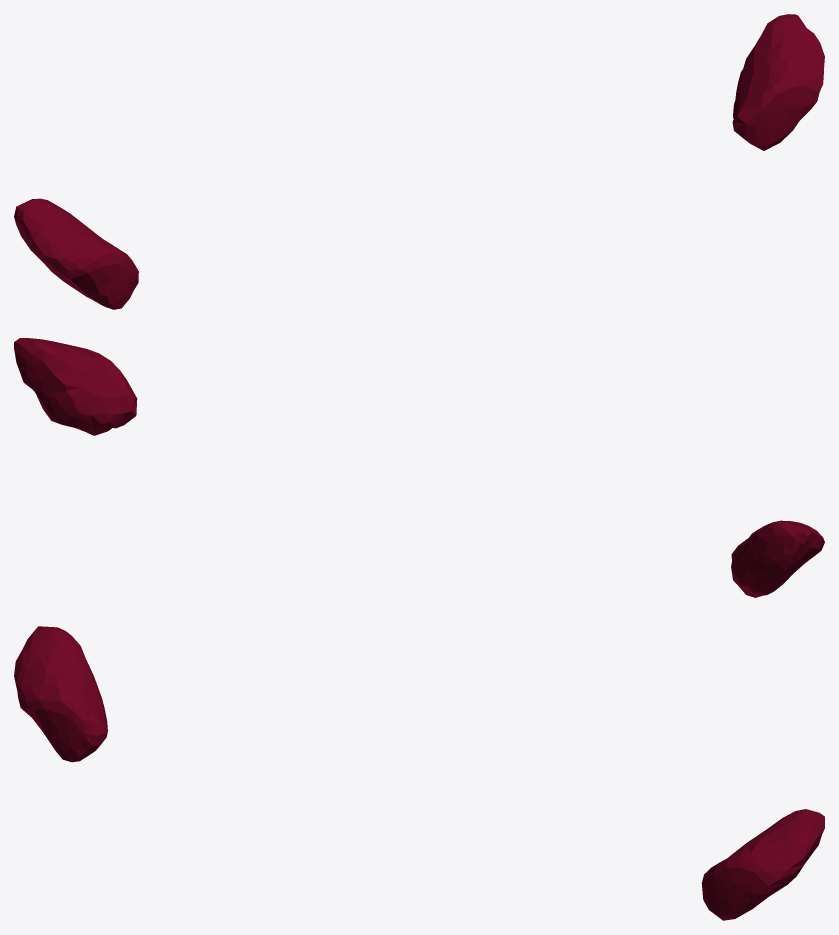
Rendered from 94-ST2s-superior temporal sulcus area, sulcal part-('0.4980', '0.0000', '0.1529').obj.
3 views of the same model, one above another, from view 1: azimuth 30°, elevation 25°; view 2: azimuth 150°, elevation 25°; view 3: azimuth 330°, elevation 25° (orthographic).
Bounding box in the file's own units: 304 × 36.54 × 30.
